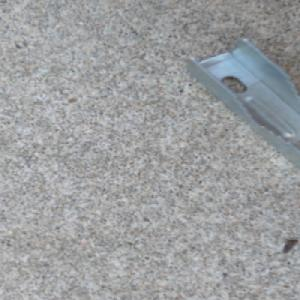ClampPart: (182, 37, 300, 170)
